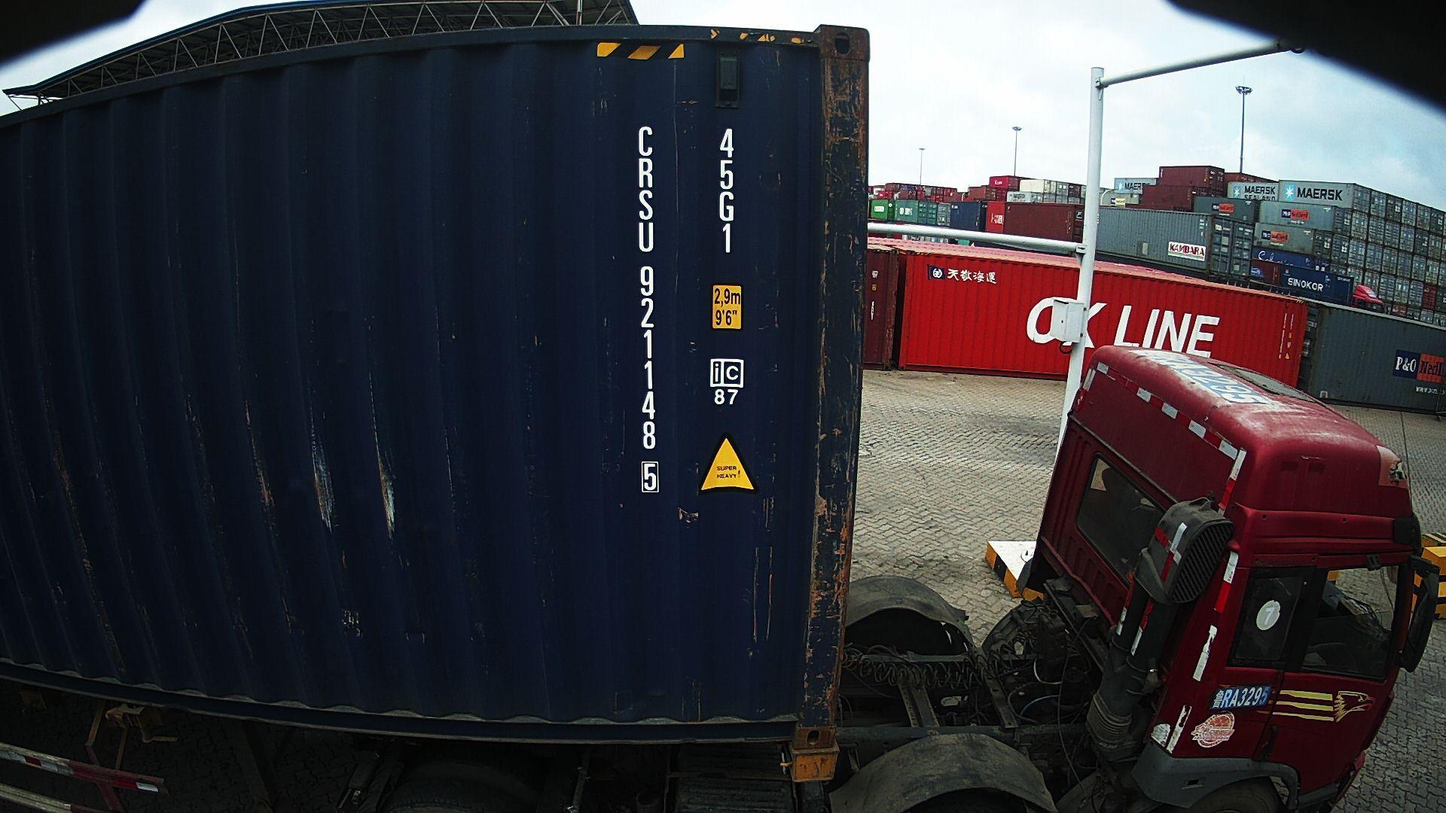container-numbers: (632, 120, 667, 502), (714, 126, 740, 259)
